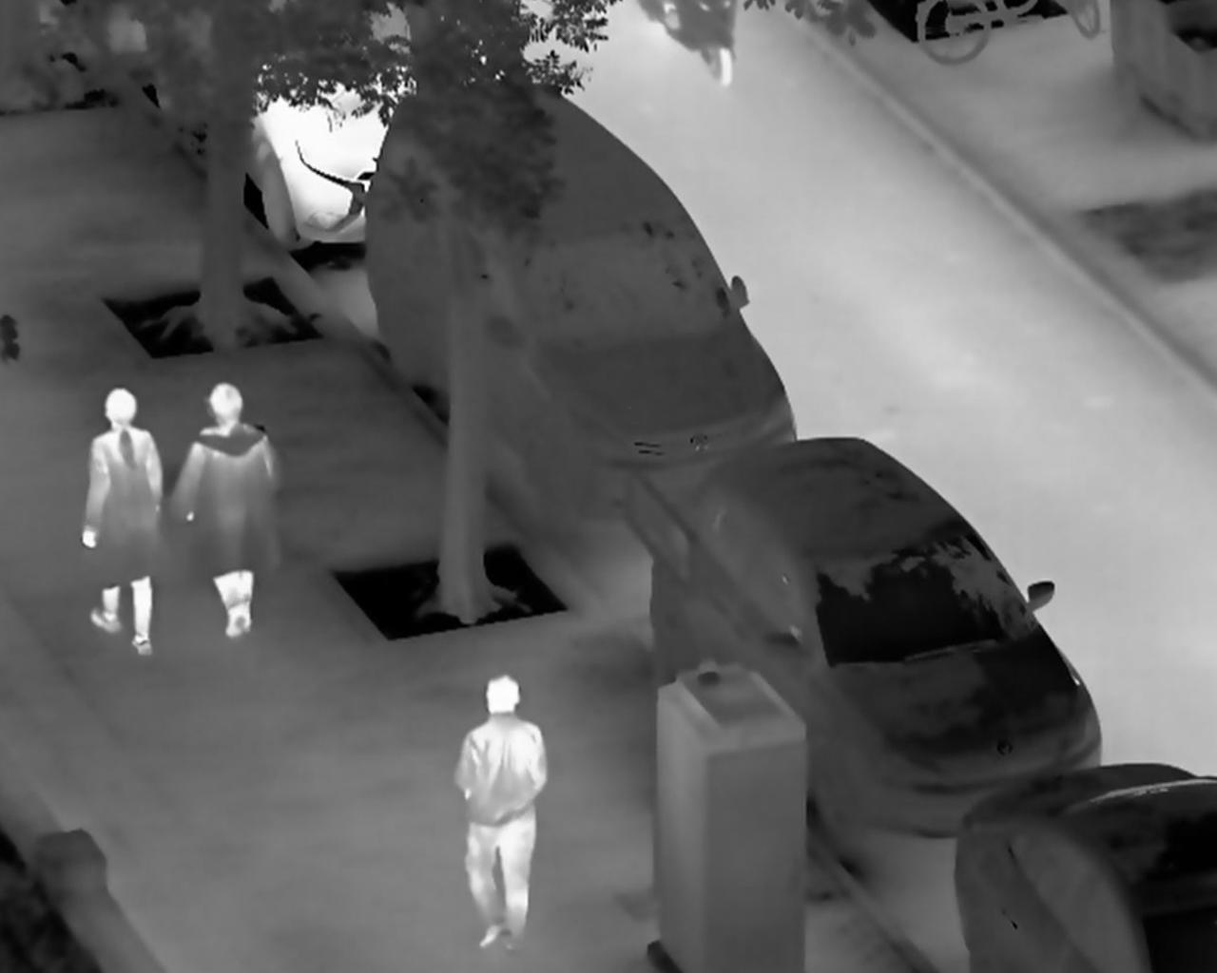person: (166, 375, 280, 639), (449, 667, 552, 957), (75, 390, 167, 659)
